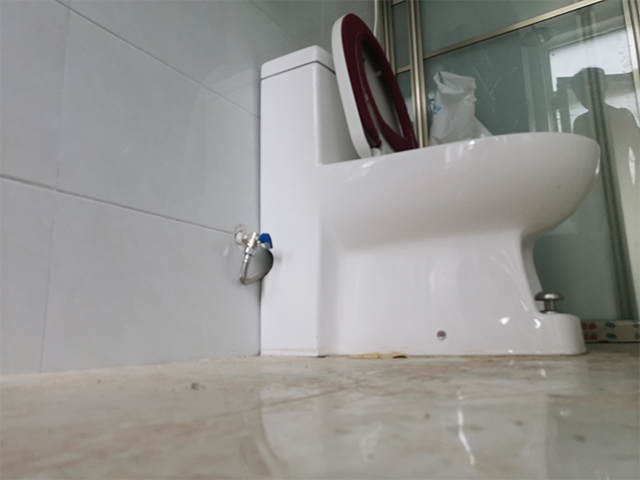closestool: (256, 10, 603, 359)
